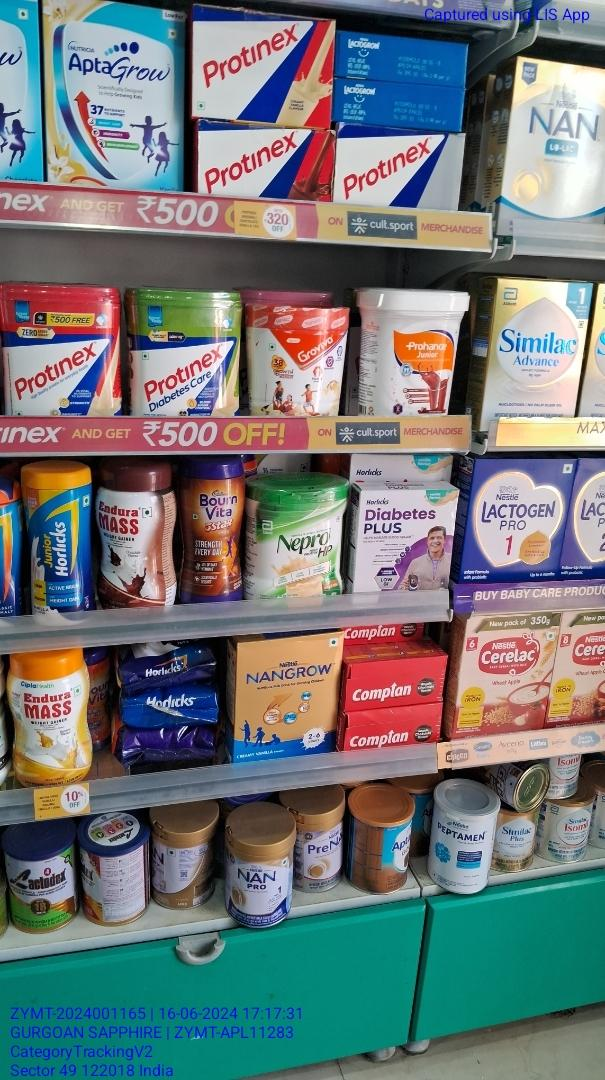BOURN_VITA_FIVE_STAR_MAGIC_500_G_JAR: (184, 457, 244, 606)
HORLICKS_JUNIOR_VANILLA_500_GM_JAR: (24, 467, 94, 618)
PROTINEX_VANILLA_400_G_JAR: (1, 281, 124, 424)
